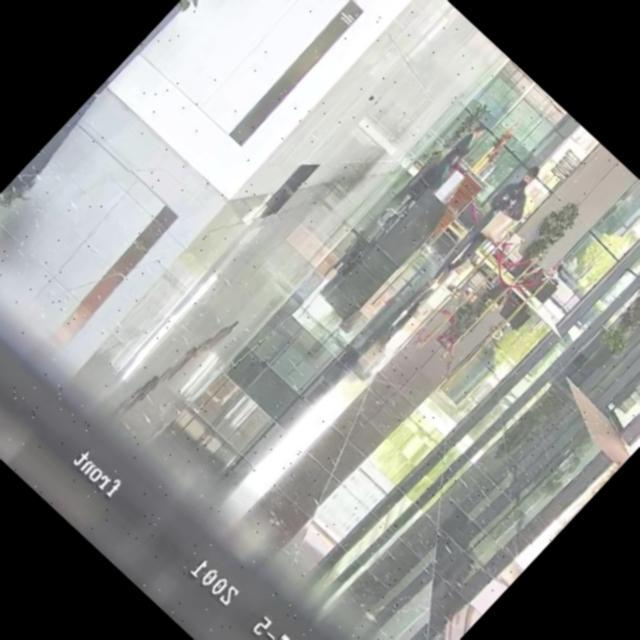person: (421, 160, 554, 299), (412, 144, 467, 202), (436, 120, 489, 176), (516, 250, 566, 300)
